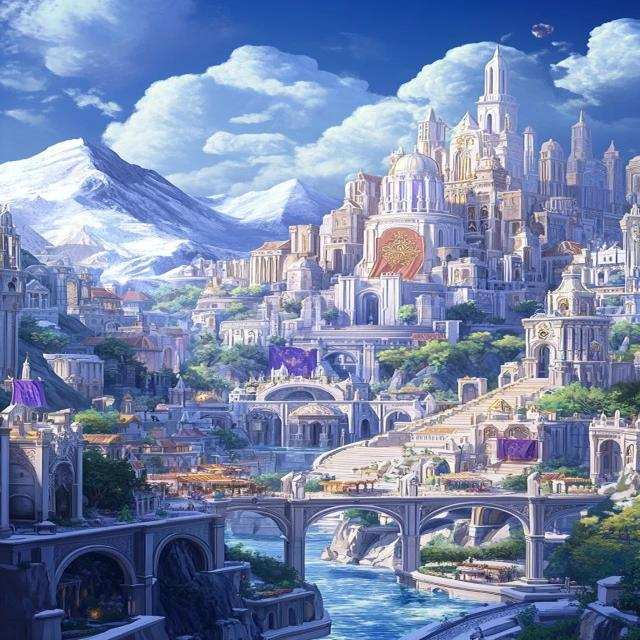castle: (131, 23, 640, 432)
